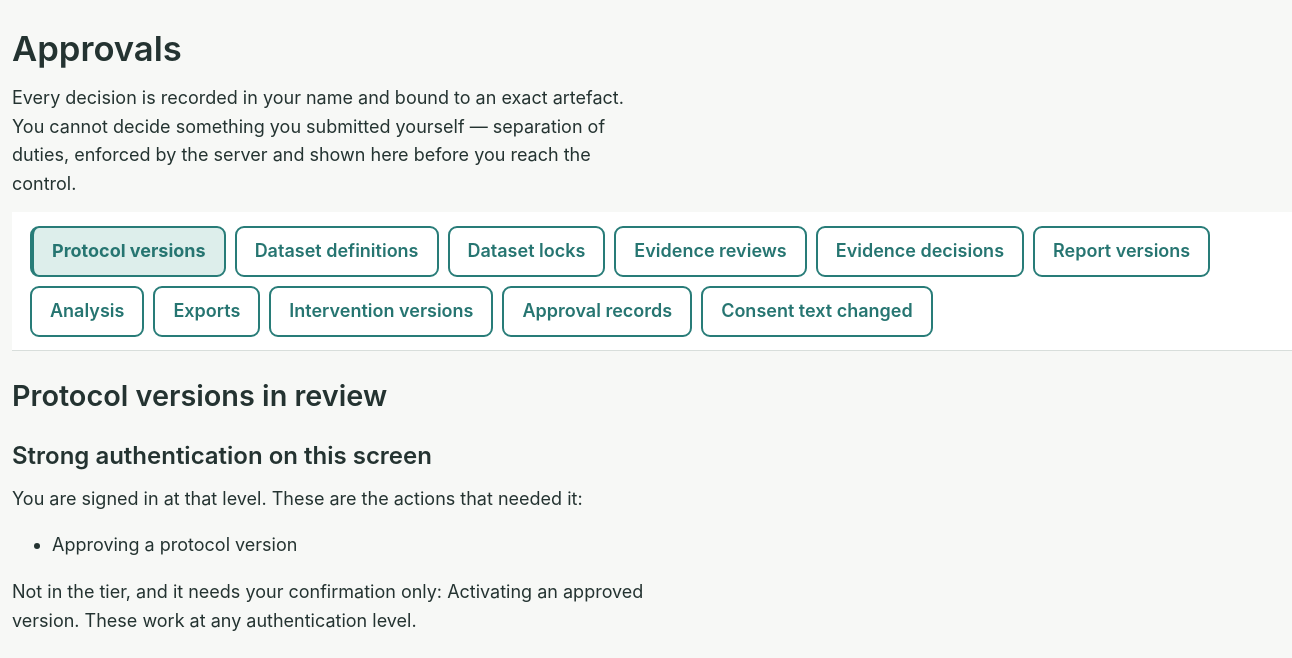
Test: approving along the analysis chain › a finding names the interpretation and run it rests on
This screenshot has width=1292, height=658.
Click the button "Analysis".
click(87, 311)  # box [30,286,144,337]
(page scrolled)
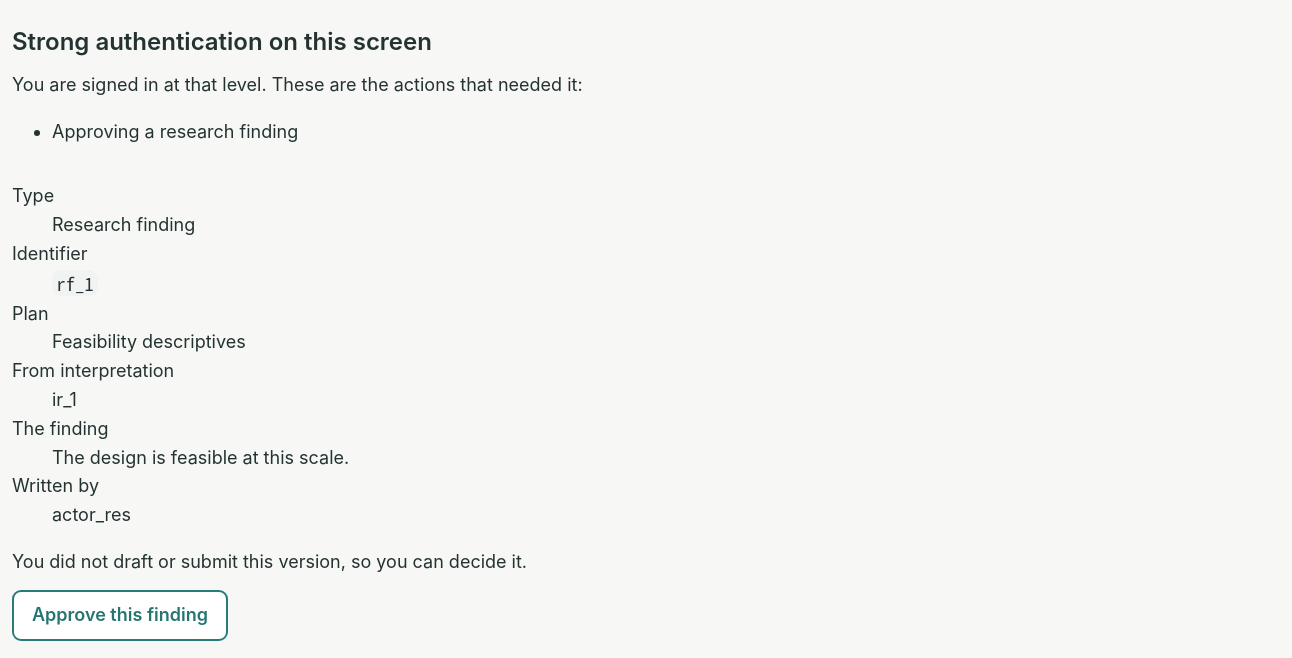
Now the text "ir_1" is shown, box [52,389,77,410]
